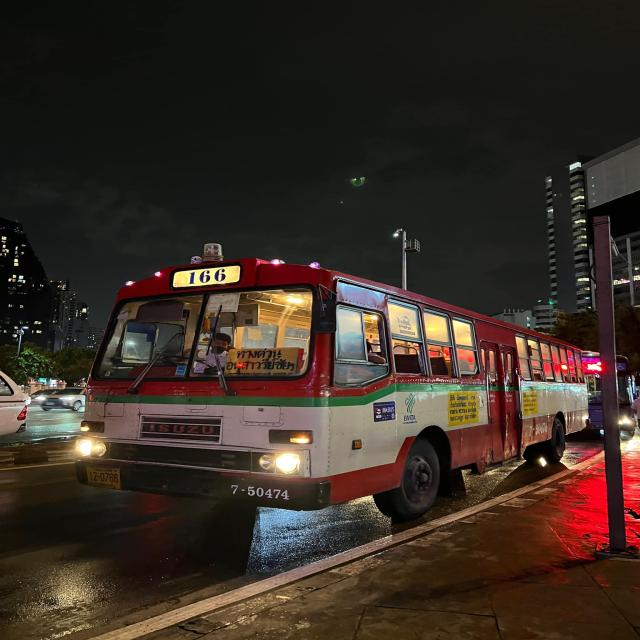BMTA-bus: (73, 237, 592, 527)
Bus-Line-Number: (178, 266, 234, 290)
Destination-Sign-Normal-Expressway: (226, 346, 302, 375)
